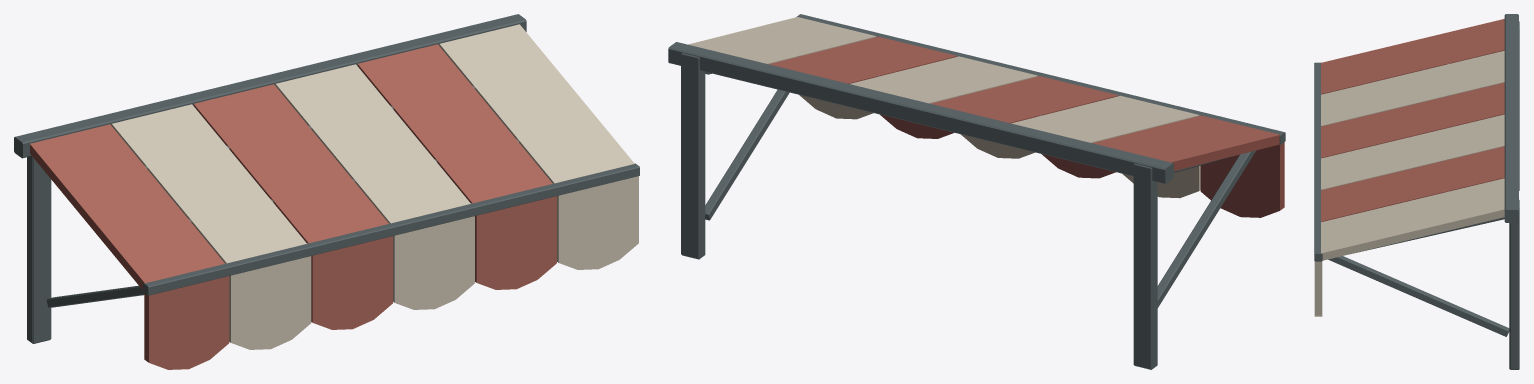
Rendered from 0-20261016-1900-ev068-r12-town-awning.fbx.
The picture shows the model from 3 angles, left to right: view 1: azimuth 30°, elevation 25°; view 2: azimuth 150°, elevation 25°; view 3: azimuth 270°, elevation 25°; orthographic projection. The views are drawn at different scales.
Visible parts, largest first — view 1: SW_Town_Awning; view 2: SW_Town_Awning; view 3: SW_Town_Awning.
Boxes of the visible parts, left/top/right/bottom form: SW_Town_Awning: left=14, top=14, right=639, bottom=369; SW_Town_Awning: left=668, top=14, right=1285, bottom=369; SW_Town_Awning: left=1314, top=14, right=1519, bottom=369.
Bounding box in the file's own units: 246 × 96.75 × 109.
